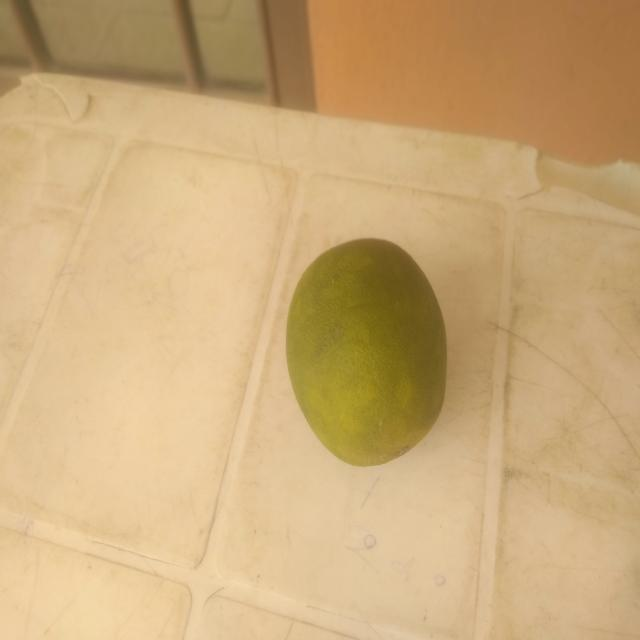Unripe: (239, 214, 490, 497)
